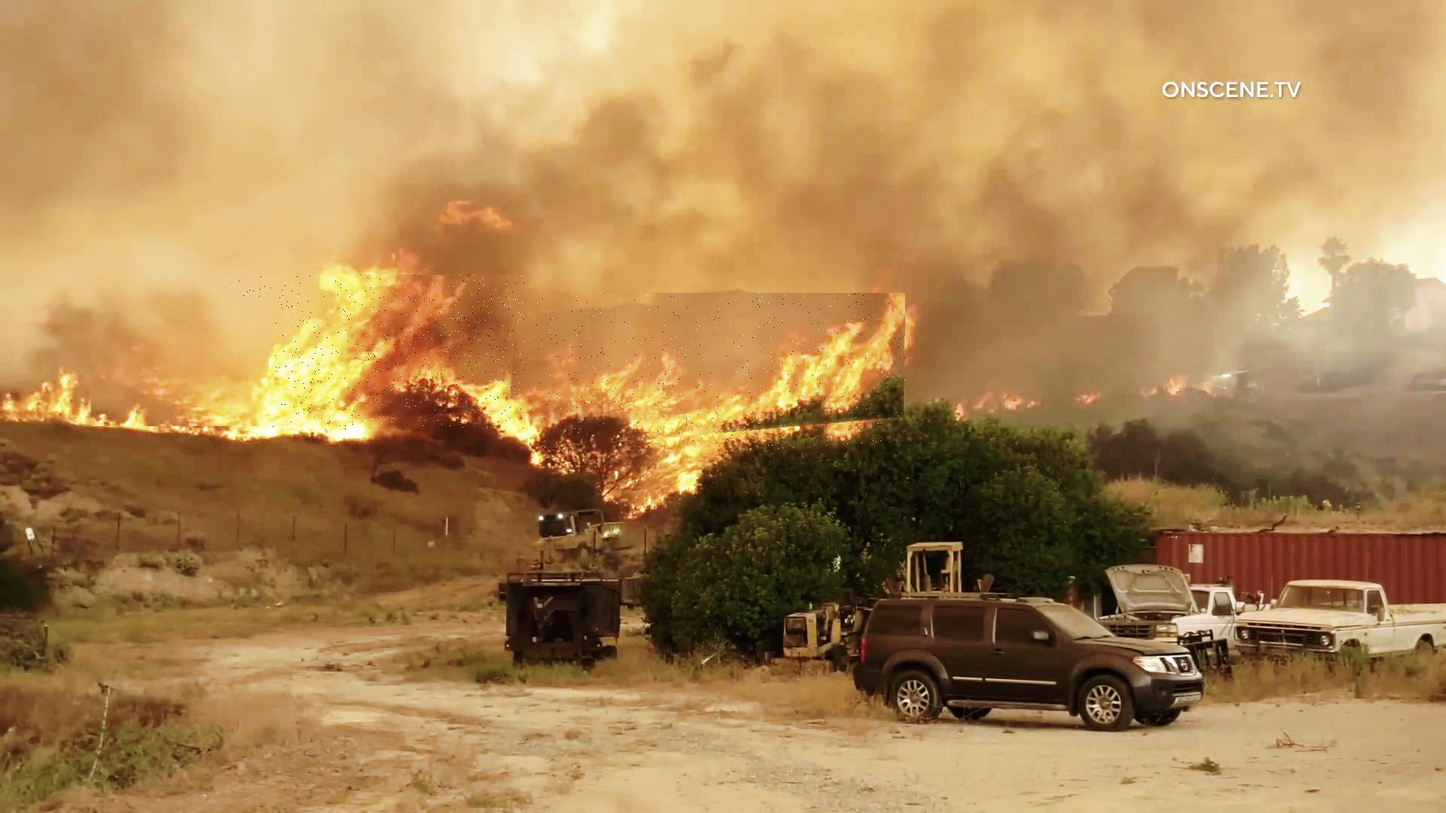fire: (530, 293, 906, 450), (230, 275, 525, 429), (91, 298, 274, 426)
